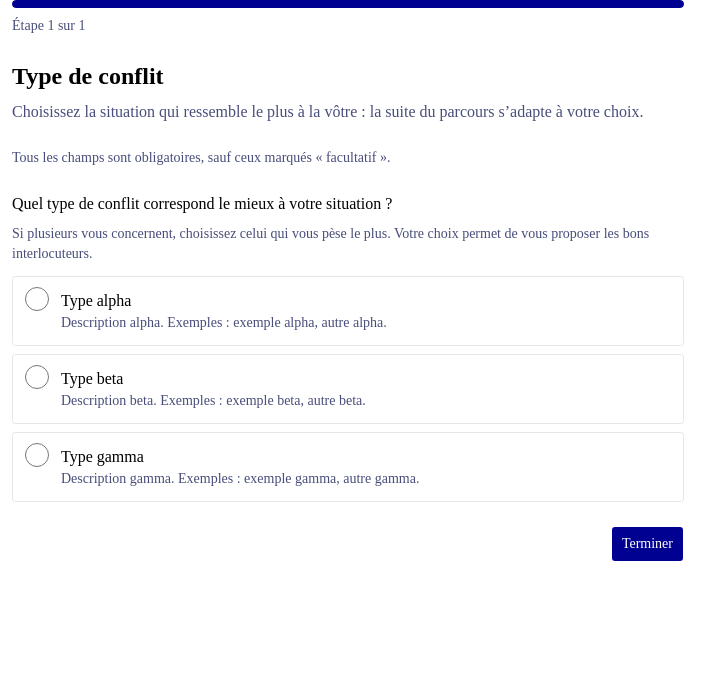
follow-up questions step › rendering from the content, one case per kind › shows the questions of the chosen type only, in the content order
The width and height of the screenshot is (701, 685).
Click the radio button labelled "Type gamma".
click(37, 455)  # box [25,443,49,467]
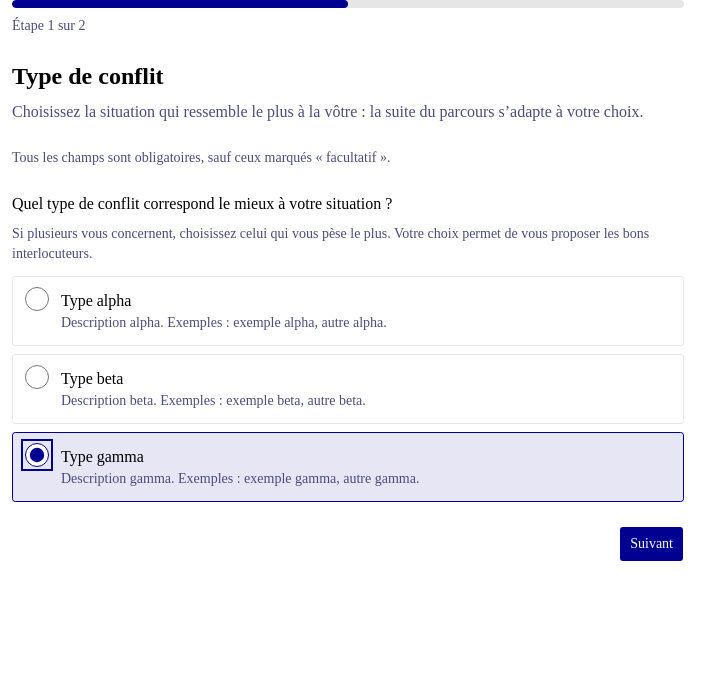
Click the button "Suivant".
click(652, 544)  # box [619,526,684,562]
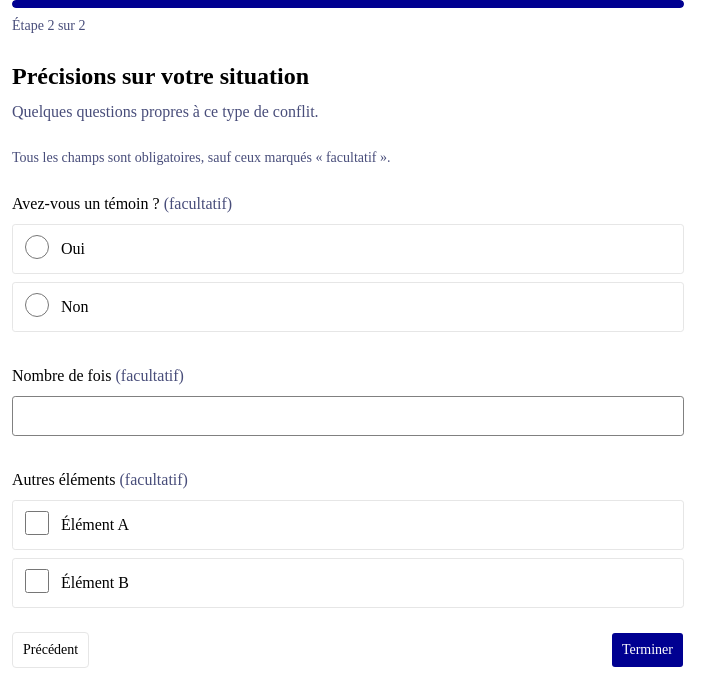
Now the element "Autres éléments (facultatif) Élément A Élément B" is shown, box [12,468,684,608]
